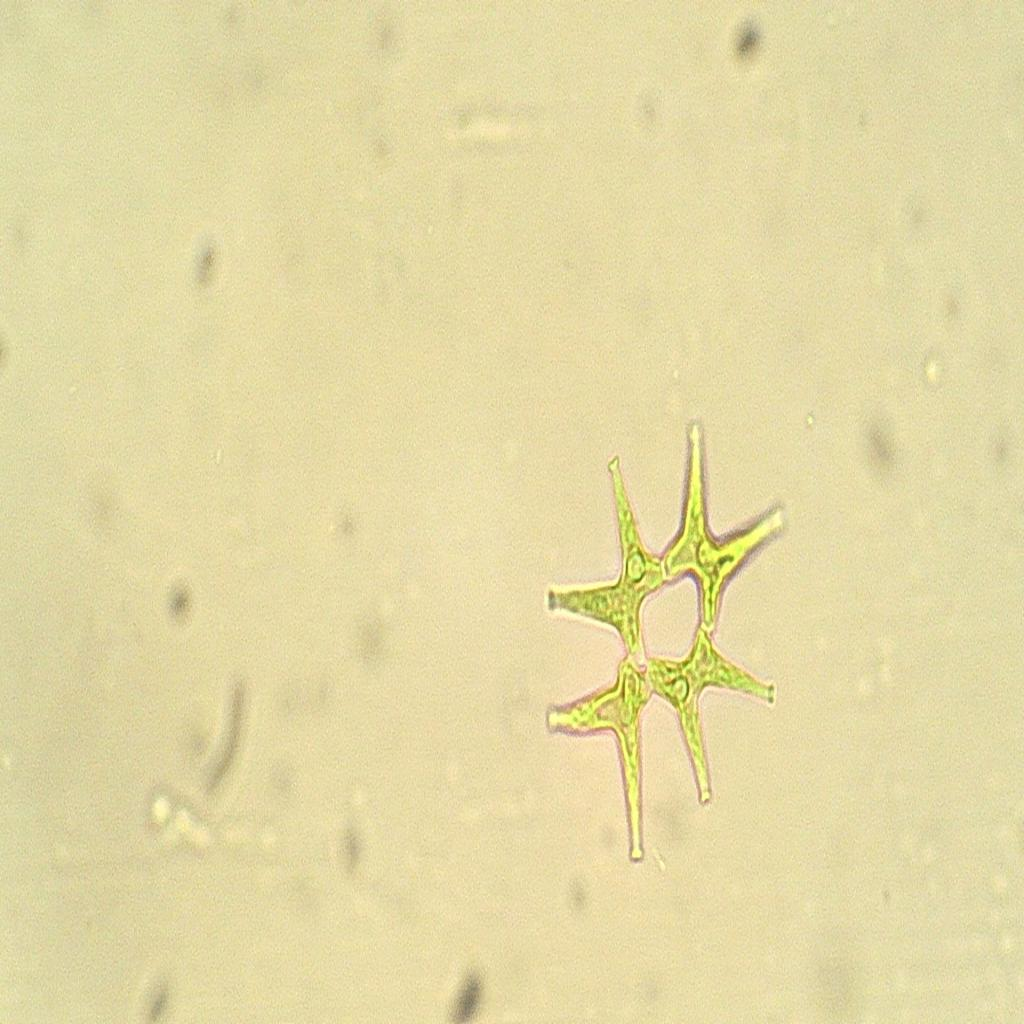Pediastrum_75FI: (527, 412, 802, 889)
